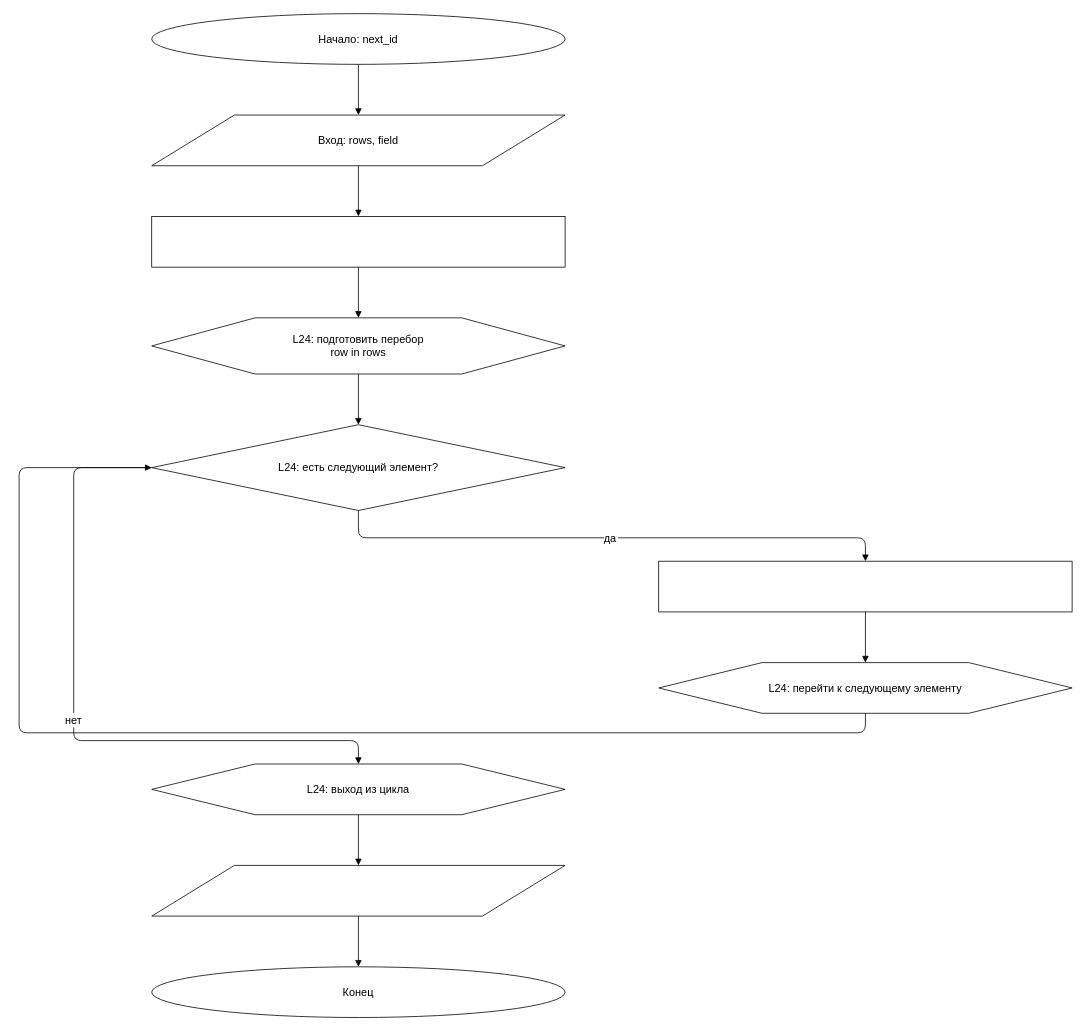
Some shapes in this 1086 by 1031 pixel diagram are drawn without their labels. Here are the shapes that lost their labels. From the top down, the box of each, then its label:
(151, 216, 565, 267): maximum = 0
(658, 560, 1072, 612): maximum = max(maximum, row[field])
(151, 865, 565, 916): return maximum + 1
